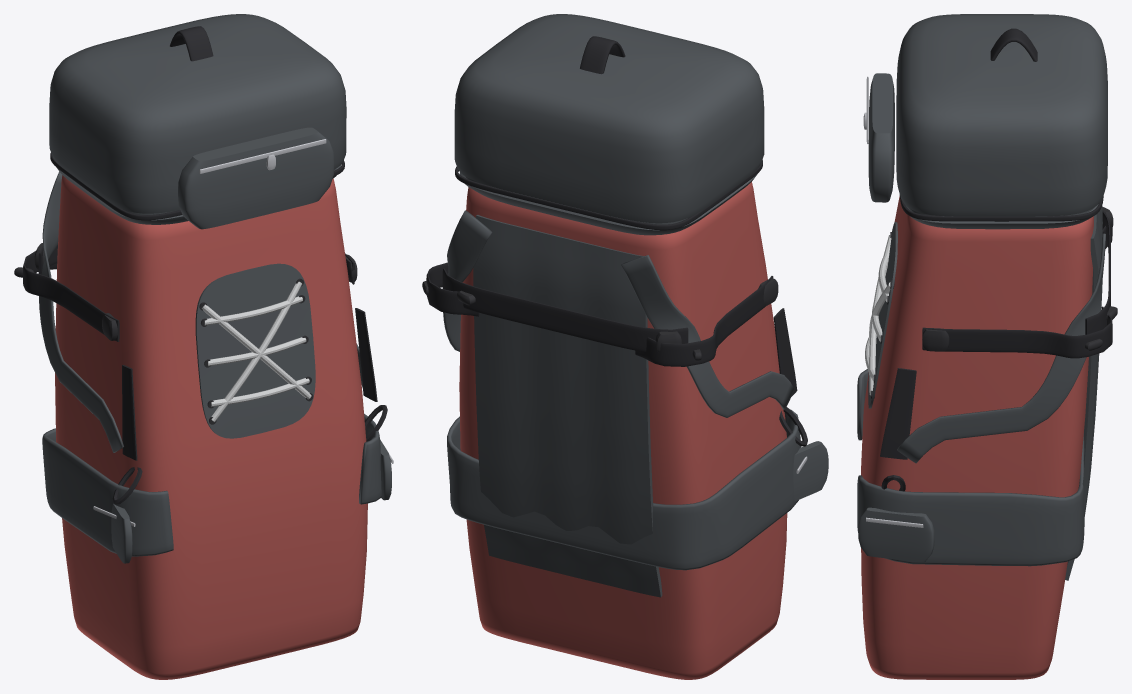
Rendered from backpack.fbx.
The picture shows the model from 3 angles, left to right: view 1: azimuth 30°, elevation 25°; view 2: azimuth 150°, elevation 25°; view 3: azimuth 270°, elevation 25°; orthographic projection. The views are drawn at different scales.
Parts seen in each view (by area): view 1: PACK_Body, PACK_Lid, PACK_FrontPanel, PACK_LidPocket, PACK_HipBelt, PACK_Bungee, PACK_ShoulderStrap_R, PACK_AxeStraps, PACK_CompressionStrap_R, PACK_HipPocket_R, PACK_HaulLoop, PACK_HipPocket_L; view 2: PACK_Body, PACK_Lid, PACK_BackPanel, PACK_HipBelt, PACK_ChestStrap, PACK_ShoulderStrap_R, PACK_CompressionStrap_R, PACK_ShoulderStrap_L, PACK_HipPocket_R, PACK_AxeStraps, PACK_CompressionStrap_L, PACK_HaulLoop; view 3: PACK_Body, PACK_Lid, PACK_HipBelt, PACK_ShoulderStrap_L, PACK_CompressionStrap_L, PACK_HipPocket_L, PACK_LidPocket, PACK_AxeStraps, PACK_BackPanel, PACK_Bungee, PACK_FrontPanel, PACK_ChestStrap (+1 smaller).
Part boxes in pixels (x1,y1,x2,y2): PACK_Body: (55,175,367,679); PACK_Lid: (49,14,346,224); PACK_FrontPanel: (195,263,315,438); PACK_LidPocket: (178,127,334,229); PACK_HipBelt: (42,413,381,556); PACK_Bungee: (199,278,313,424); PACK_ShoulderStrap_R: (39,171,123,452); PACK_AxeStraps: (112,308,387,504); PACK_CompressionStrap_R: (14,251,119,341); PACK_HipPocket_R: (93,503,135,563); PACK_HaulLoop: (170,26,213,61); PACK_HipPocket_L: (380,439,393,500); PACK_Body: (459,182,787,679); PACK_Lid: (454,14,764,235); PACK_BackPanel: (473,215,662,597); PACK_HipBelt: (447,410,801,570); PACK_ChestStrap: (442,268,688,352); PACK_ShoulderStrap_R: (621,255,794,417); PACK_CompressionStrap_R: (635,276,778,366); PACK_ShoulderStrap_L: (443,210,492,351); PACK_HipPocket_R: (793,441,828,501); PACK_AxeStraps: (773,308,807,446); PACK_CompressionStrap_L: (422,262,479,316); PACK_HaulLoop: (580,36,625,74); PACK_Body: (861,196,1093,679); PACK_Lid: (896,14,1107,229); PACK_HipBelt: (857,369,1084,566); PACK_ShoulderStrap_L: (897,233,1105,463); PACK_CompressionStrap_L: (922,306,1112,358); PACK_HipPocket_L: (858,507,934,562); PACK_LidPocket: (863,73,894,202); PACK_AxeStraps: (880,368,916,491); PACK_BackPanel: (1065,206,1102,580); PACK_Bungee: (865,232,894,398); PACK_FrontPanel: (868,222,897,408); PACK_ChestStrap: (1085,206,1117,334).
Bounding box in the file's own units: 0.3897 × 0.7541 × 0.3008.
